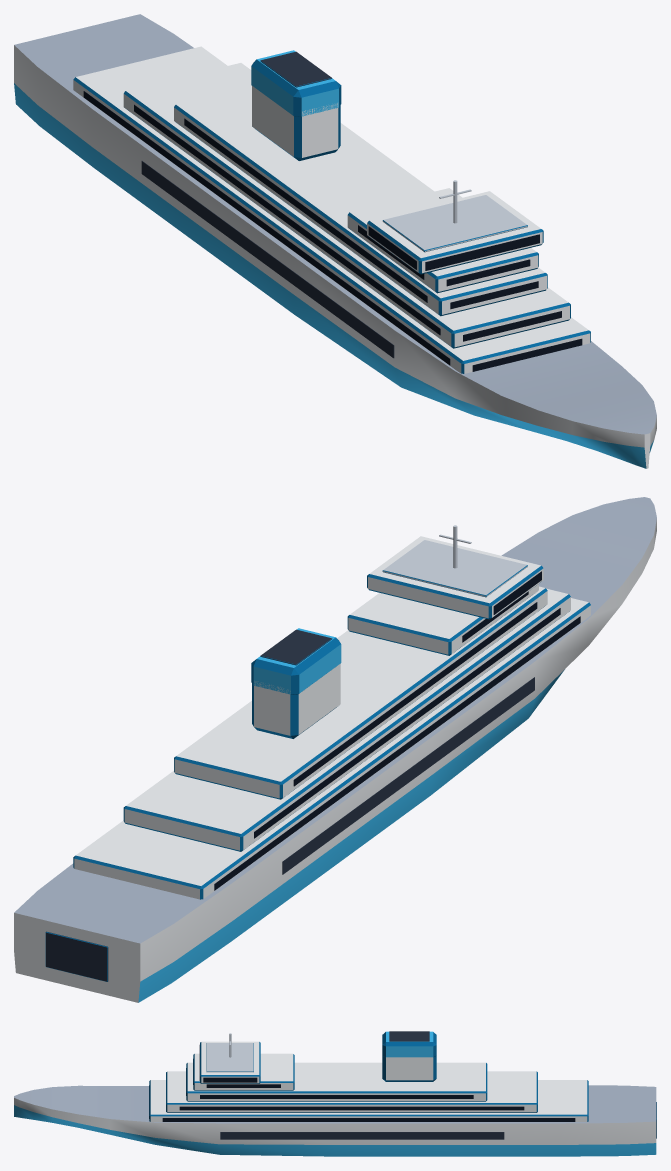
The model's file is ferry.glb.
3 views of the same model, one above another, from view 1: azimuth 30°, elevation 25°; view 2: azimuth 150°, elevation 25°; view 3: azimuth 270°, elevation 25° (orthographic). The views are drawn at different scales.
Visible parts, largest first — view 1: ferry; view 2: ferry; view 3: ferry.
Part boxes in pixels (left/top/right/bottom): ferry: left=14, top=14, right=656, bottom=468; ferry: left=14, top=497, right=656, bottom=1002; ferry: left=14, top=1031, right=656, bottom=1156.
Bounding box in the file's own units: 27.2 × 34 × 190.
